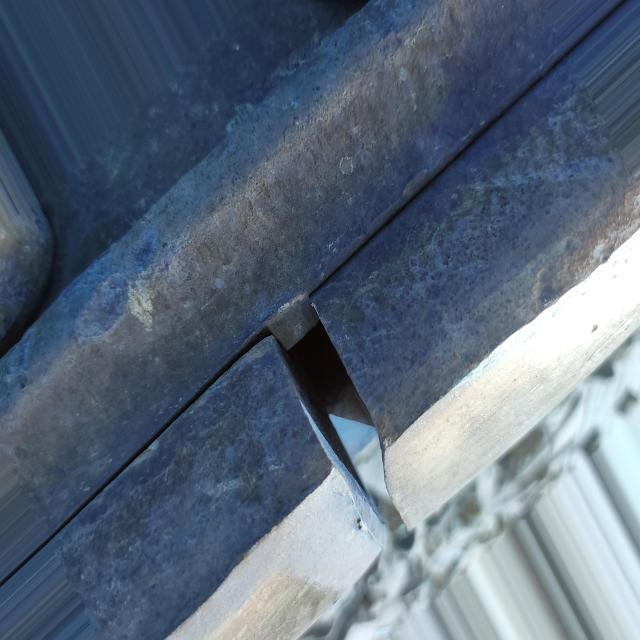crack: (228, 306, 463, 571)
